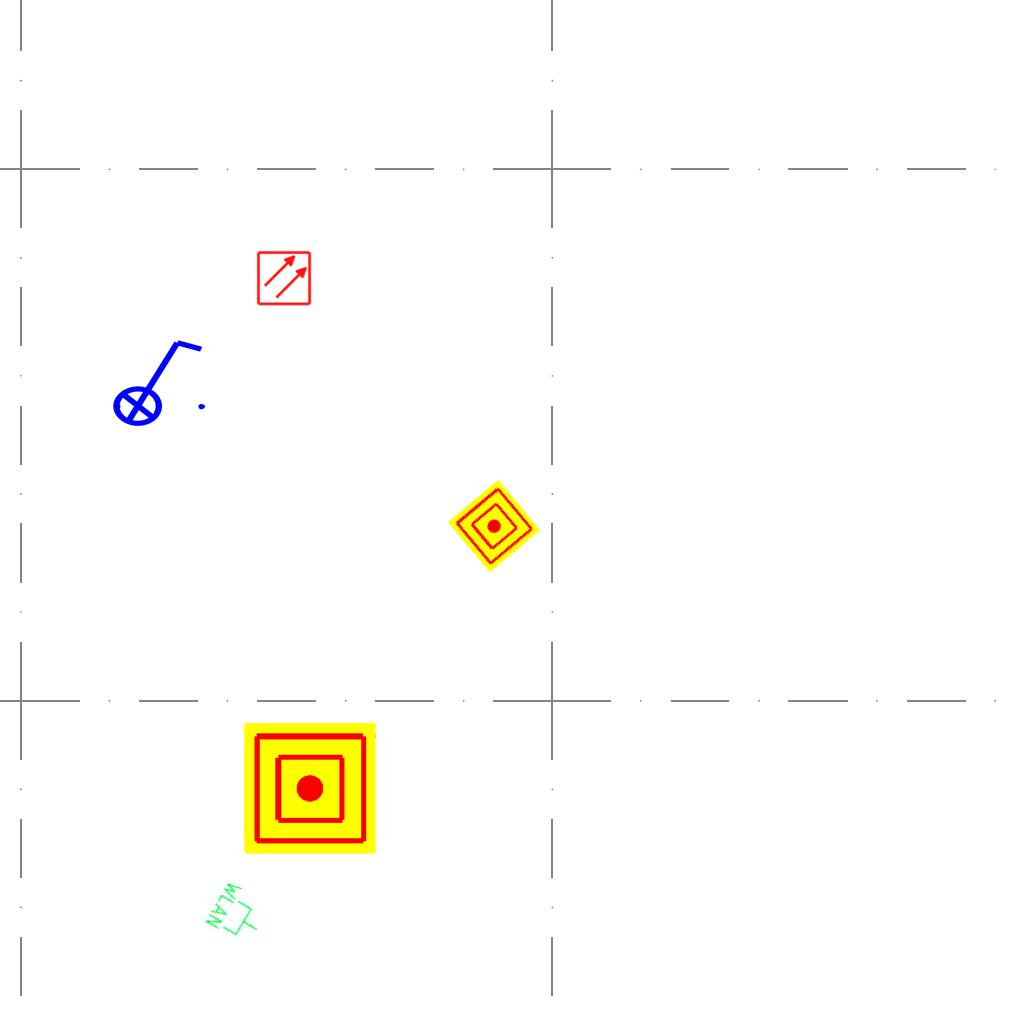Ausschalter_beleuchtet: (99, 332, 211, 428)
NAM-Nichtautomatischer_Melder: (244, 722, 376, 854), (447, 479, 541, 573)
RMO_Rauchmelder_optischer: (256, 250, 312, 306)
WLAN: (202, 877, 274, 949)
